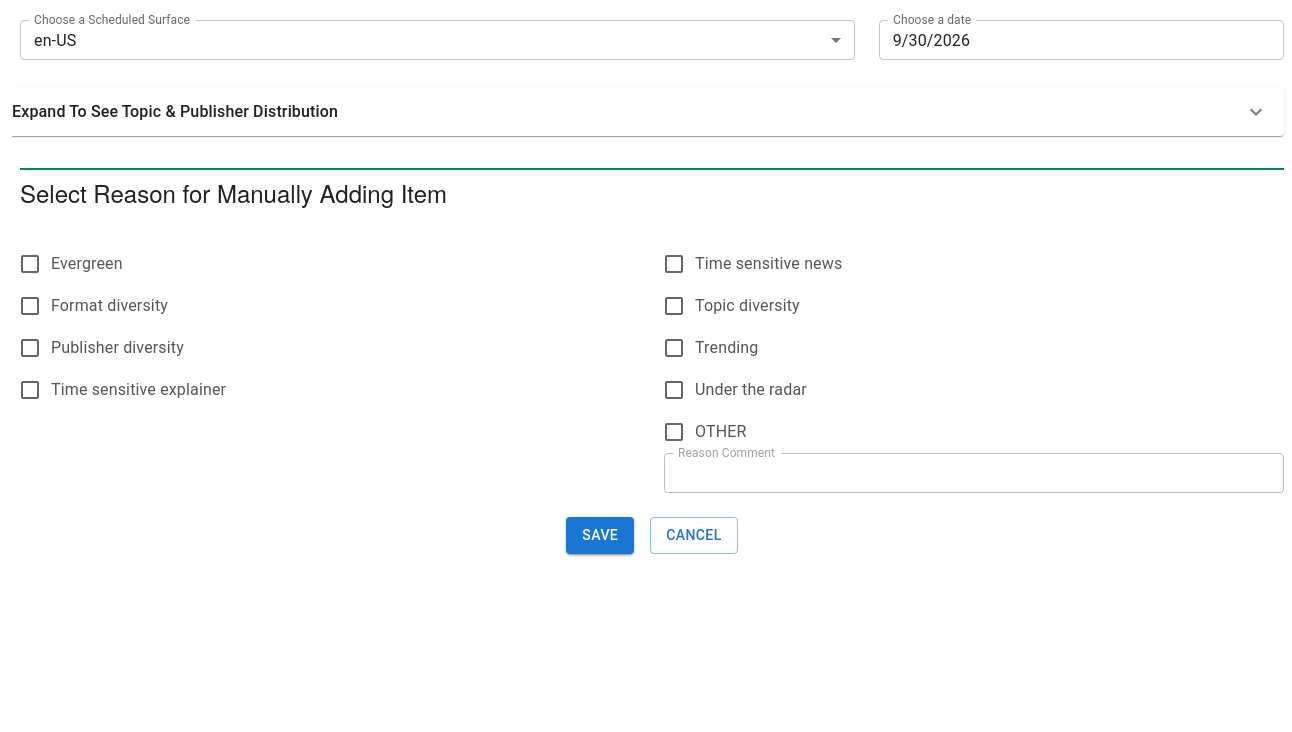
The ScheduleItemForm component › displays an error message if no checkboxes have been selected
Click the button "Save" at coordinates (600, 535), box [566,517,634,554]
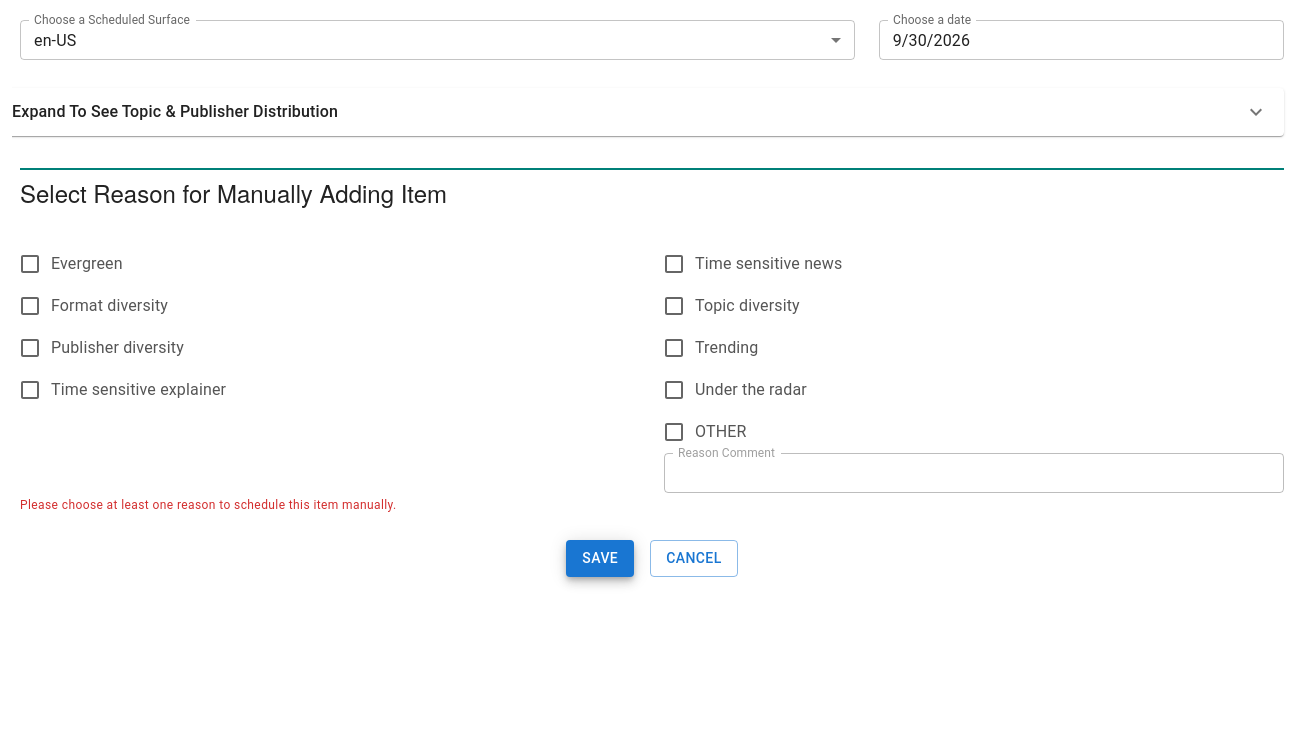
Expected: the text "Please choose at least one reason to schedule this item manually." is shown, [20,498,397,512]
